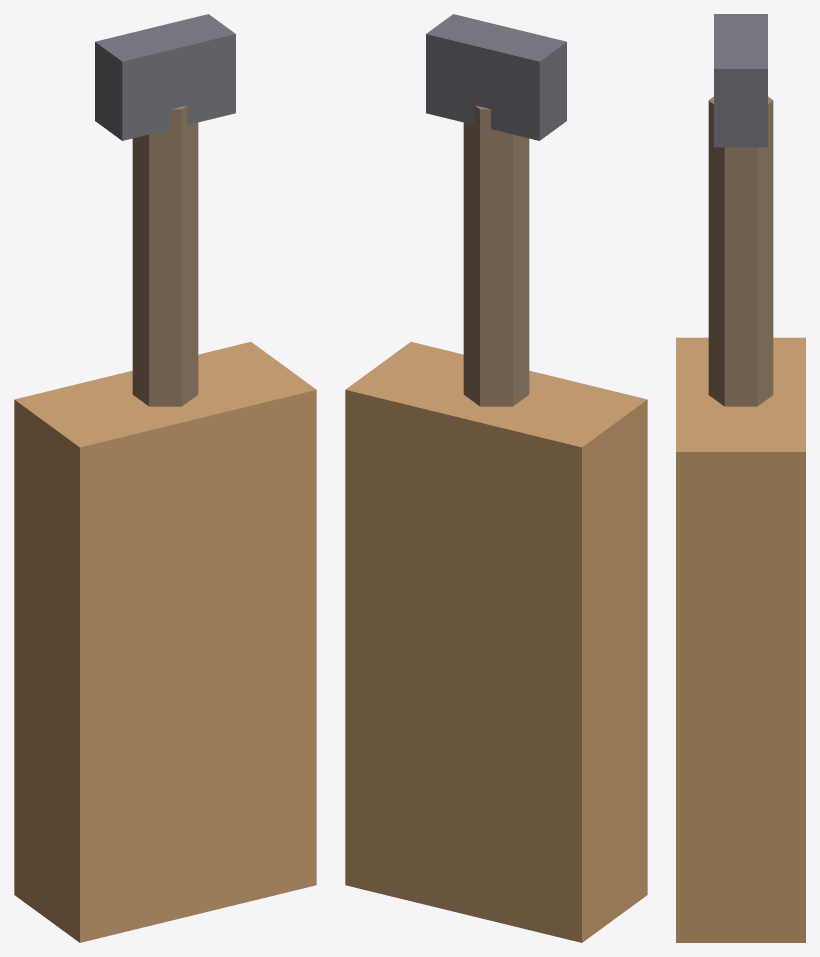
File: kid_instrumento.glb
3 renders of one model, left to right at view 1: azimuth 30°, elevation 25°; view 2: azimuth 150°, elevation 25°; view 3: azimuth 270°, elevation 25°, orthographic.
Parts seen in each view (by area): view 1: KID_INSTRUMENTO_v01; view 2: KID_INSTRUMENTO_v01; view 3: KID_INSTRUMENTO_v01.
Boxes of the visible parts, x1,y1,x2,y2 form: KID_INSTRUMENTO_v01: (14, 14, 316, 942); KID_INSTRUMENTO_v01: (345, 14, 647, 942); KID_INSTRUMENTO_v01: (676, 14, 805, 942).
Bounding box in the file's own units: 0.25 × 0.86 × 0.12.
